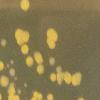yellow: (14, 27, 29, 44), (46, 27, 58, 42), (70, 72, 82, 86), (19, 0, 31, 12), (34, 51, 44, 64), (0, 74, 9, 88), (25, 56, 34, 69), (36, 64, 45, 76), (46, 39, 56, 49), (31, 91, 42, 100), (21, 44, 29, 56), (64, 72, 70, 86), (6, 88, 16, 96), (0, 38, 7, 49), (7, 94, 19, 100), (50, 73, 56, 83), (0, 59, 4, 73), (46, 92, 53, 100), (49, 57, 55, 66), (56, 72, 62, 80), (10, 68, 16, 76), (57, 65, 63, 72), (56, 80, 62, 86), (8, 83, 14, 89), (75, 97, 85, 100), (6, 63, 10, 69), (0, 92, 3, 100), (16, 89, 20, 94), (24, 84, 27, 88)
